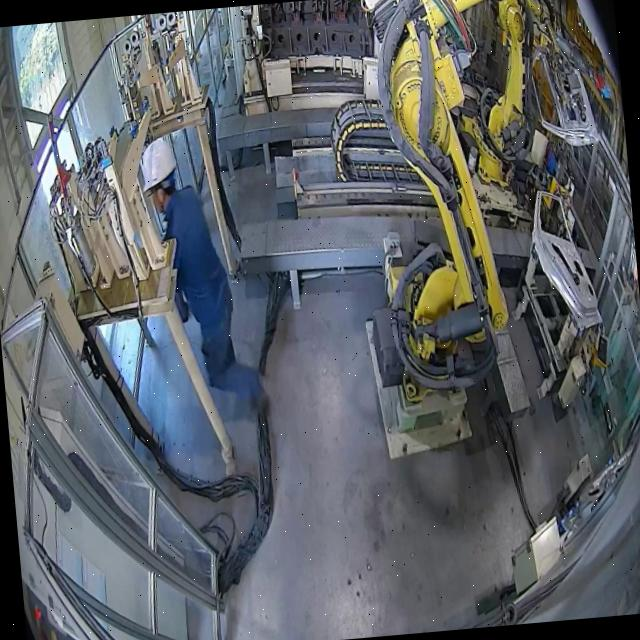Person: (136, 132, 240, 388)
